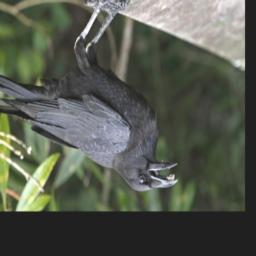Crow: (0, 0, 179, 193)
